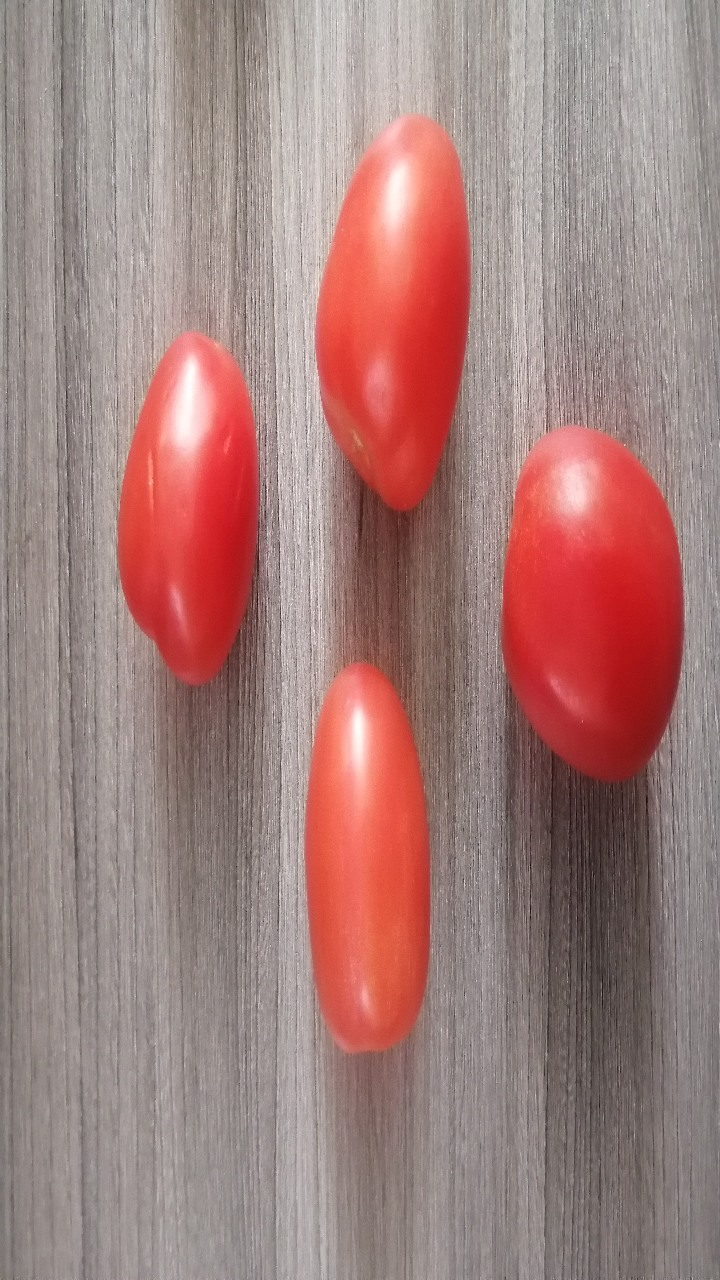tomateRojo: (489, 402, 709, 803), (301, 99, 500, 531), (81, 306, 286, 691), (291, 640, 474, 1063)
